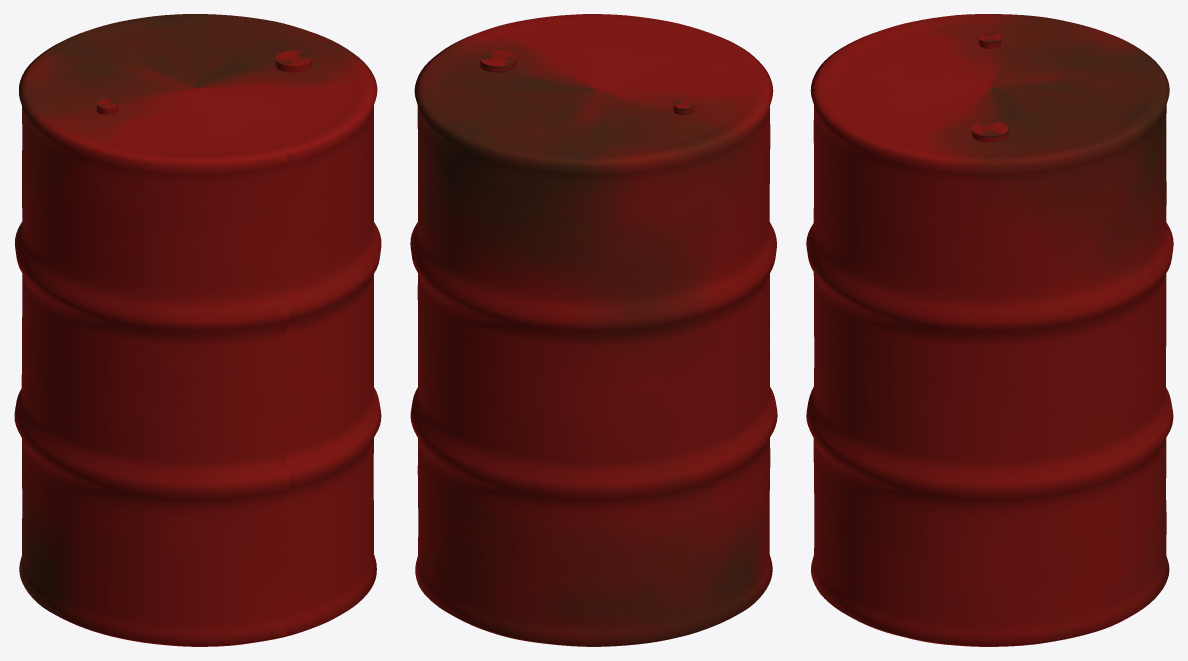
The model's file is barrel_L2.glb.
3 views of the same model, side by side, from view 1: azimuth 30°, elevation 25°; view 2: azimuth 150°, elevation 25°; view 3: azimuth 270°, elevation 25° (orthographic).
Parts seen in each view (by area): view 1: drum, bung; view 2: drum, bung; view 3: drum, bung.
Boxes of the visible parts, left/top/right/bottom form: drum: left=14, top=14, right=381, bottom=646; bung: left=275, top=50, right=311, bottom=72; drum: left=410, top=14, right=777, bottom=646; bung: left=480, top=51, right=516, bottom=72; drum: left=806, top=14, right=1173, bottom=646; bung: left=971, top=120, right=1008, bottom=142.
Bounding box in the file's own units: 0.5973 × 0.8851 × 0.5978.
Materials: 1 (1 with a texture image).
